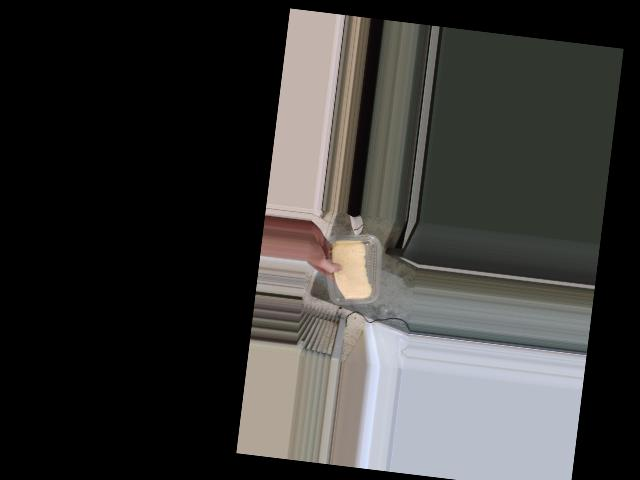cheese: (321, 230, 380, 307)
